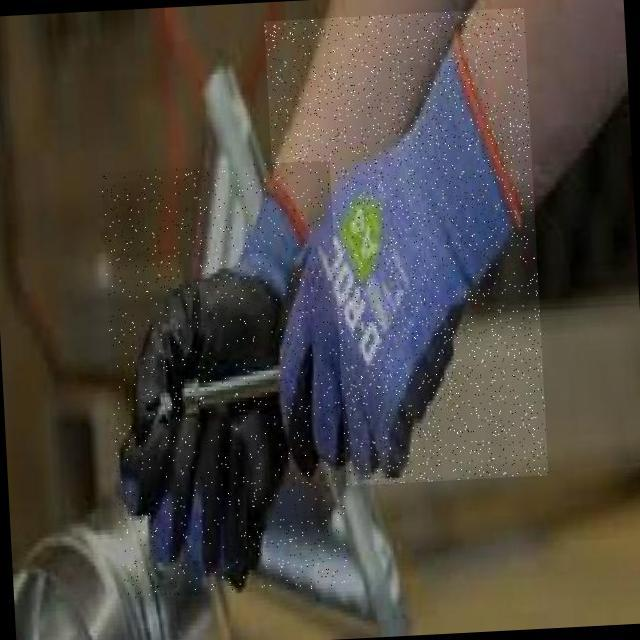Gloves: (265, 8, 549, 489), (101, 161, 352, 599)
